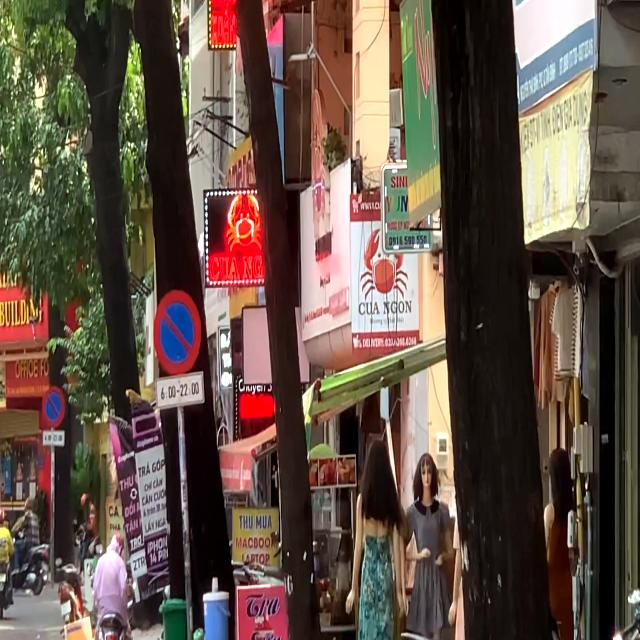P.131a: (153, 292, 201, 371), (42, 385, 66, 427)
